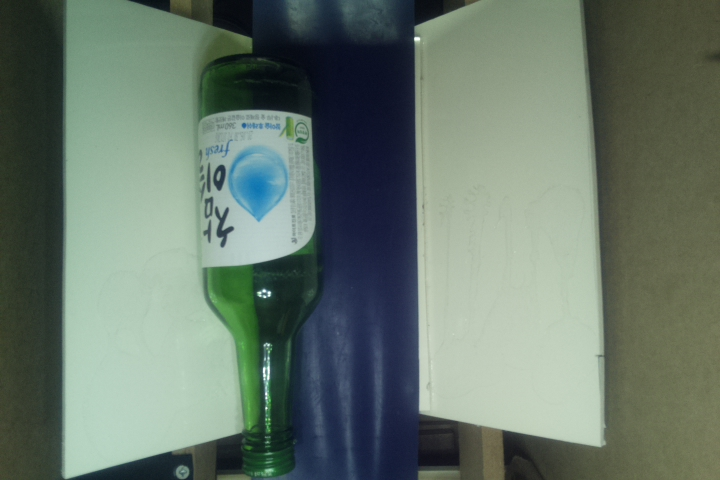soju: (195, 54, 324, 480)
